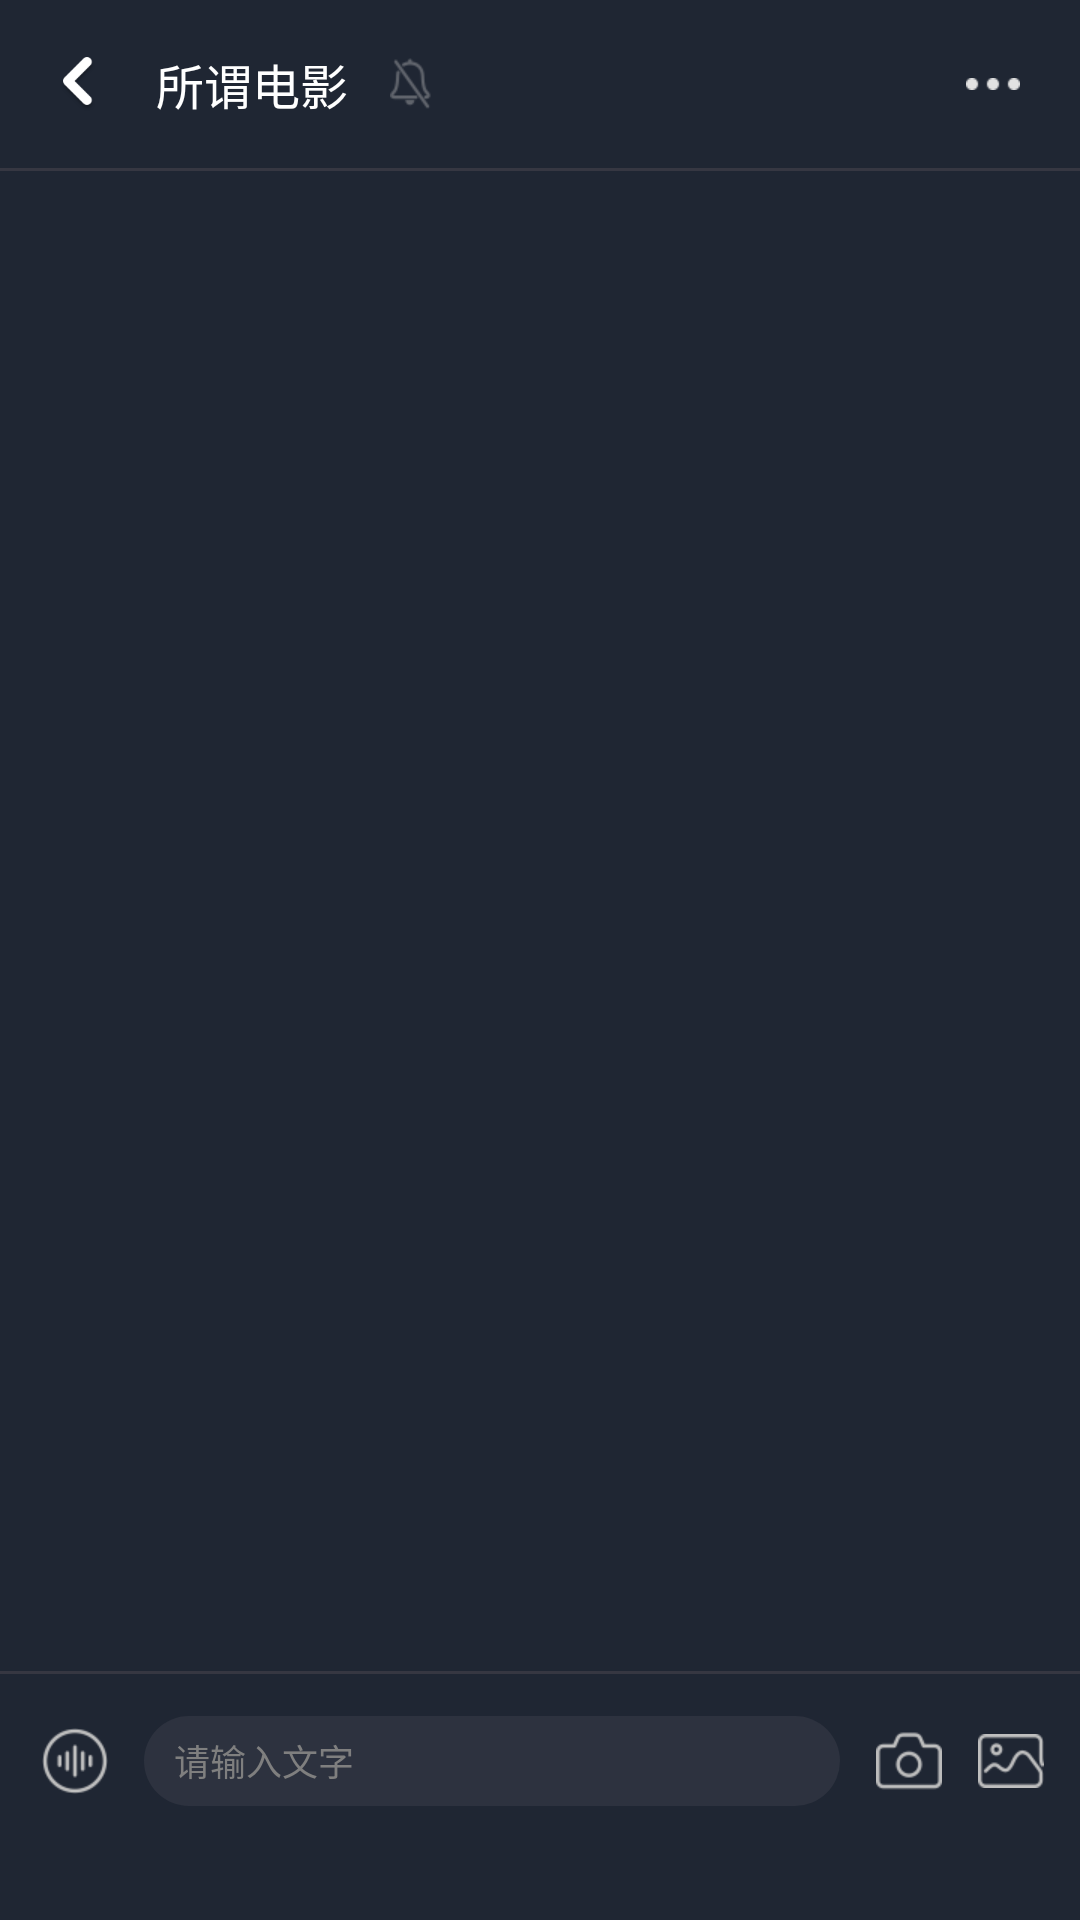

Screen size 1080w x 1920h. Icon name, then its center in pixels as (x=x, y=y):
back: (x=77, y=81)
chat message no disturb: (x=410, y=83)
chat more page: (x=993, y=84)
chat say message: (x=75, y=1760)
chat select: (x=1011, y=1761)
chat take photo: (x=909, y=1760)
